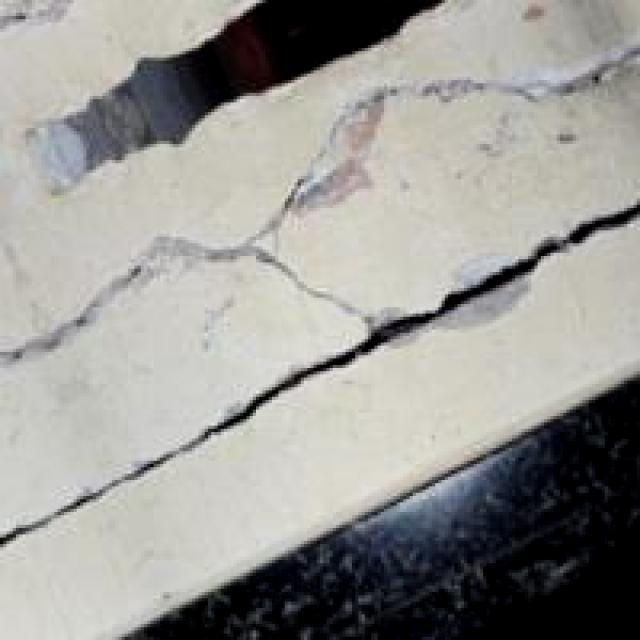crack: (0, 196, 640, 552)
